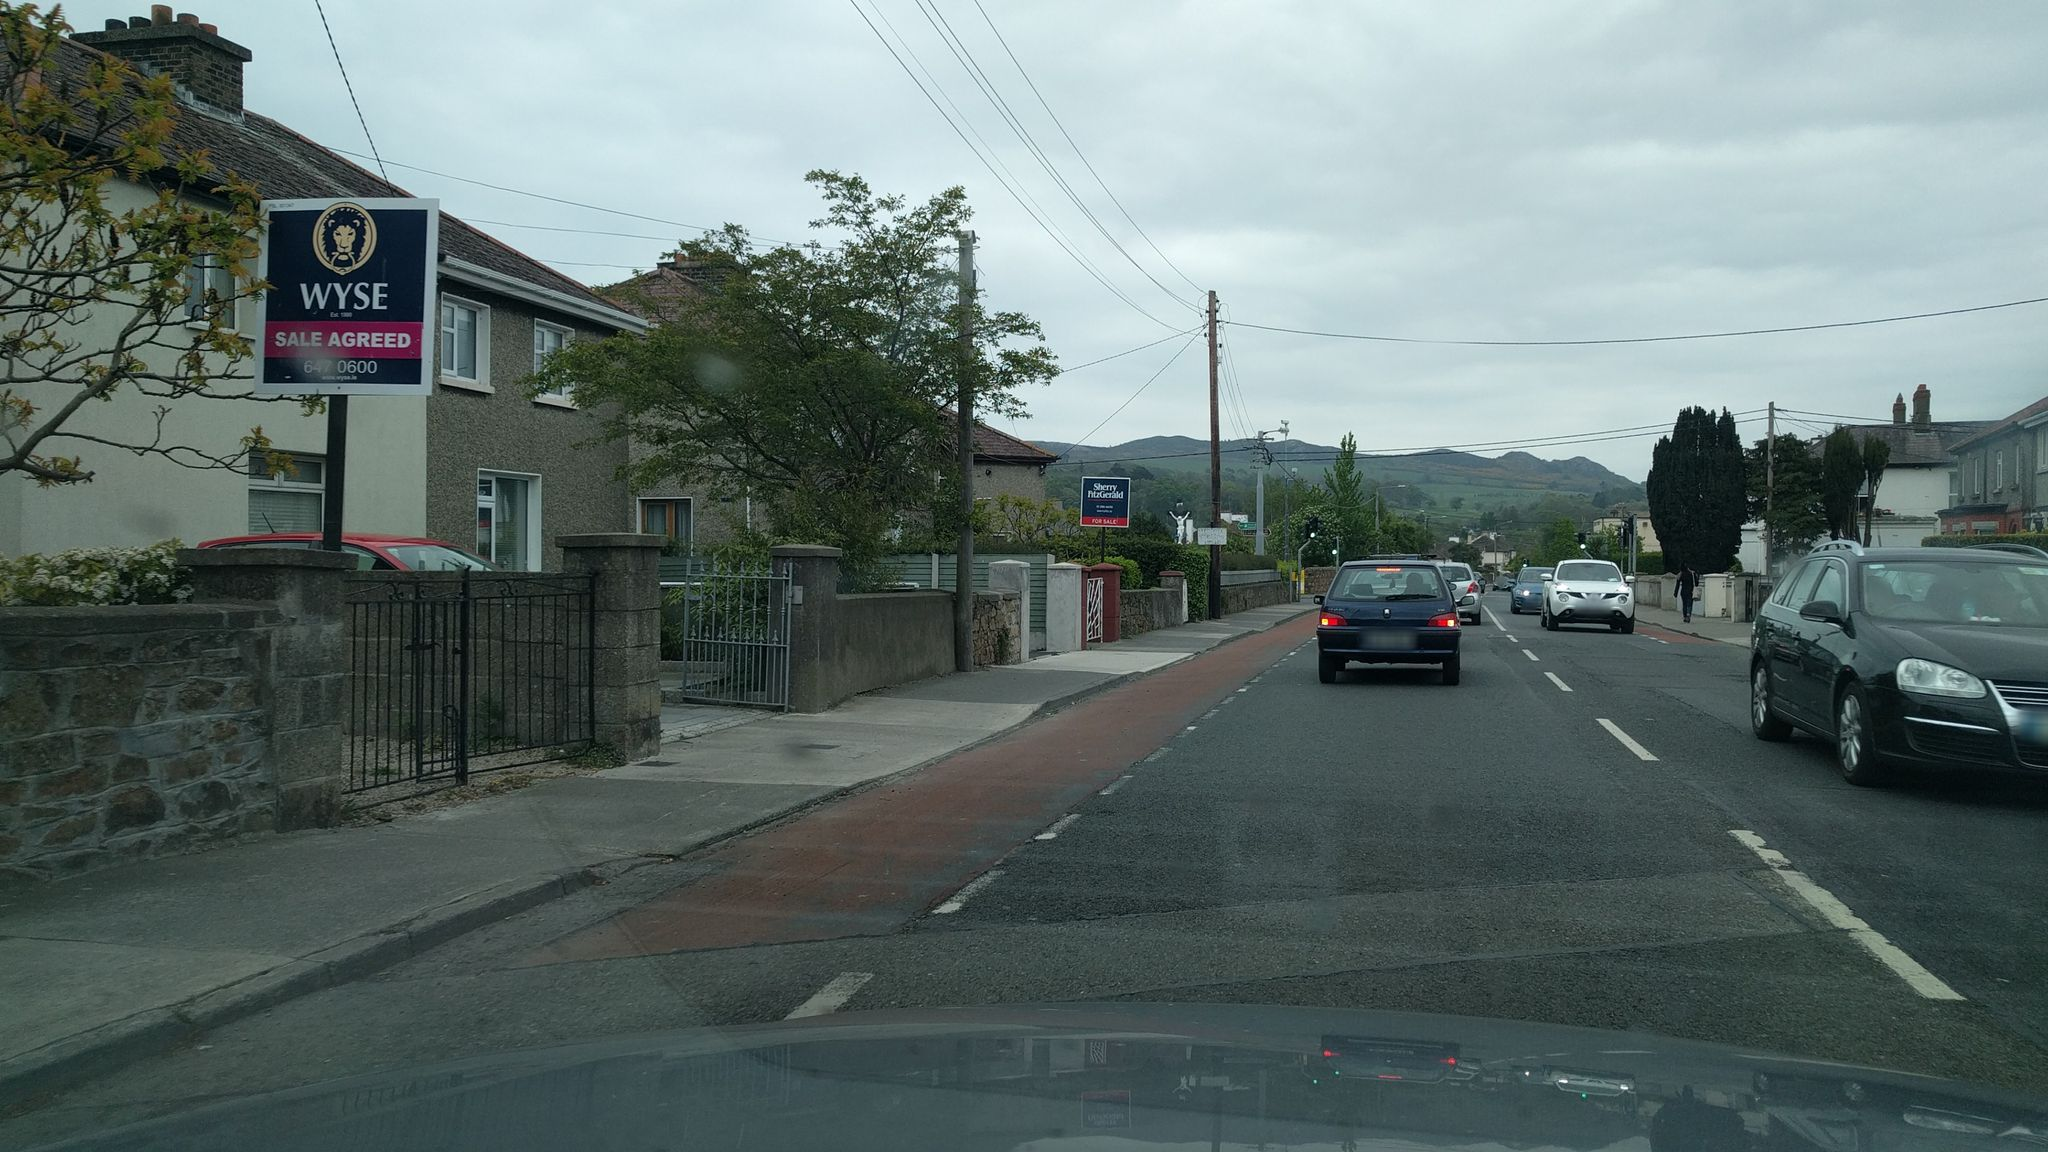property sign: (229, 166, 461, 428), (1073, 454, 1137, 527)
